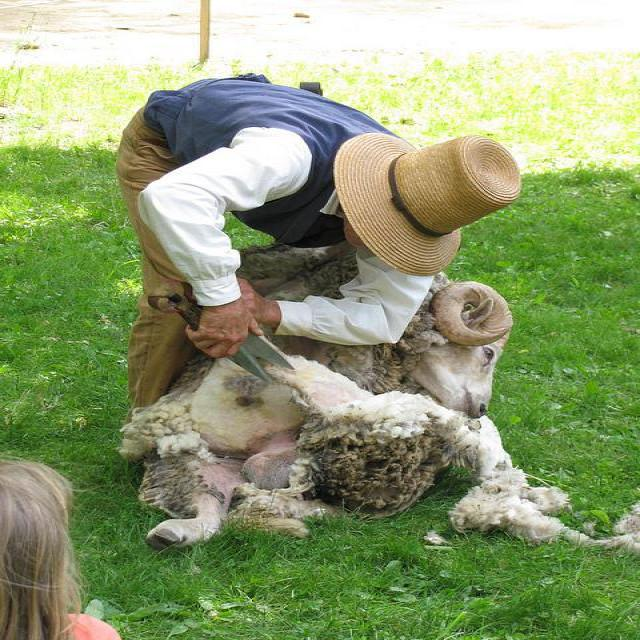Sheep: (120, 239, 627, 552)
